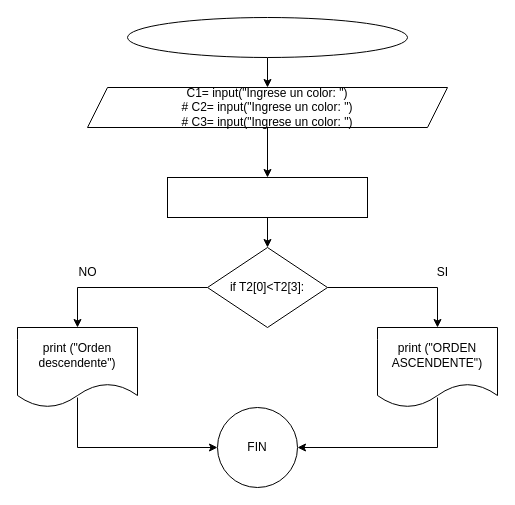
This 515x505 diagram has some shape labels left out. Each missing label, with the box of its shape:
INICIO: (126, 16, 408, 58)
T2= (5, 8, 12, 20): (166, 176, 368, 218)
